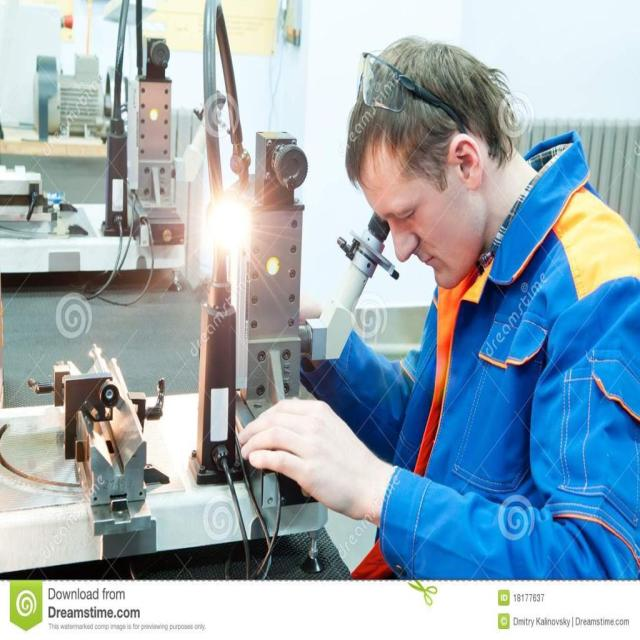Face: (361, 138, 485, 285)
